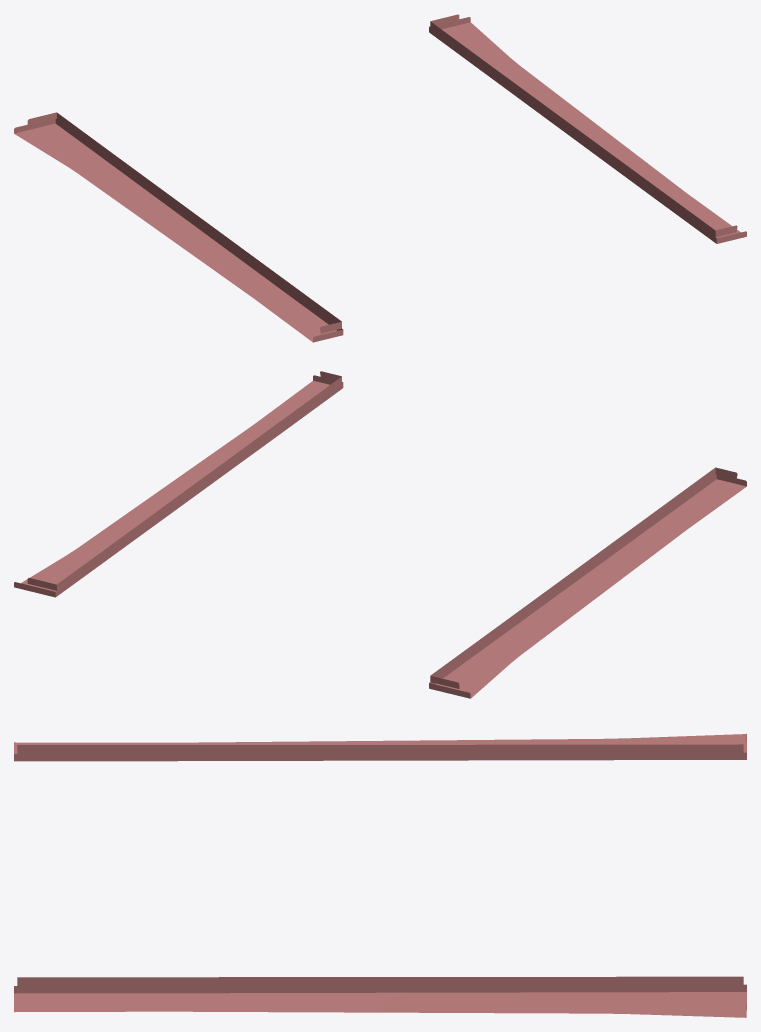
The model's file is MX5_SideSkirt02_Trim.fbx.
3 renders of one model, top to bottom at view 1: azimuth 30°, elevation 25°; view 2: azimuth 150°, elevation 25°; view 3: azimuth 270°, elevation 25°, orthographic. The views are drawn at different scales.
Visible parts, largest first — view 1: MX5_SideSkirt02_Trim; view 2: MX5_SideSkirt02_Trim; view 3: MX5_SideSkirt02_Trim.
Part boxes in pixels (x1,y1,x2,y2): MX5_SideSkirt02_Trim: (14, 14, 746, 342); MX5_SideSkirt02_Trim: (14, 371, 746, 698); MX5_SideSkirt02_Trim: (14, 733, 746, 1017).
Bounding box in the file's own units: 160 × 4.42 × 175.
